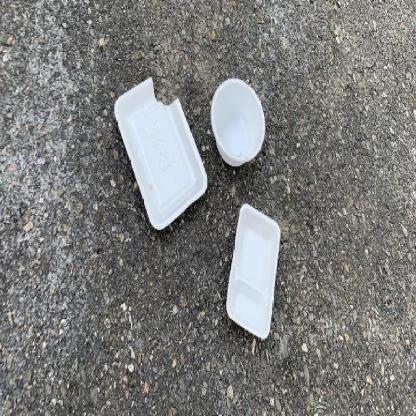Glass Cup: (114, 75, 207, 230), (114, 76, 207, 229), (114, 77, 207, 229), (225, 202, 279, 339), (227, 204, 280, 339), (211, 78, 265, 166), (212, 79, 264, 168)
